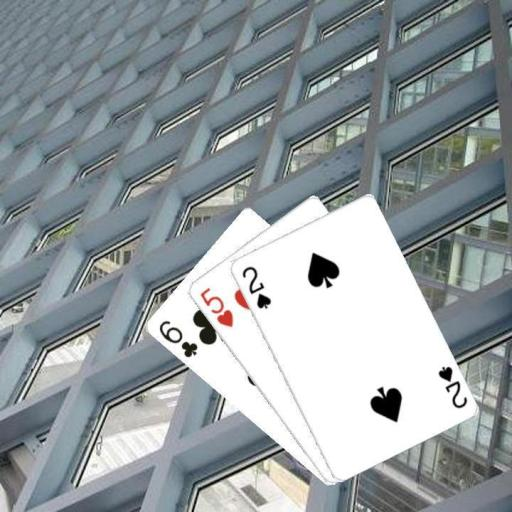card-corner: (155, 317, 199, 359), (196, 284, 235, 328), (238, 262, 272, 310), (434, 363, 468, 410)
